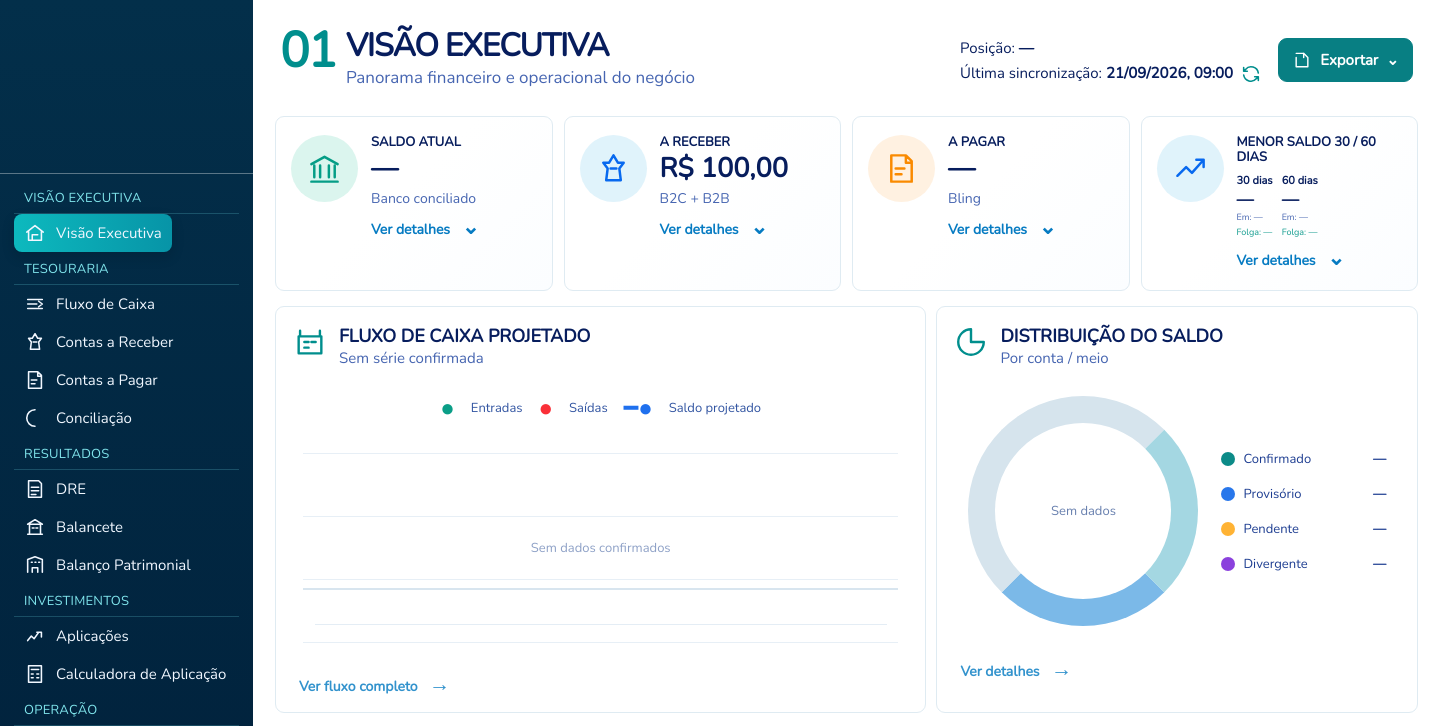
it: shell financeiro › renderiza linhas normalizadas nas tabelas de recebíveis do mockup
Expected: the heading "VISÃO EXECUTIVA" is shown, [346, 24, 608, 67]
Click the button "Contas a Receber" at [99, 342], box [14, 323, 183, 361]
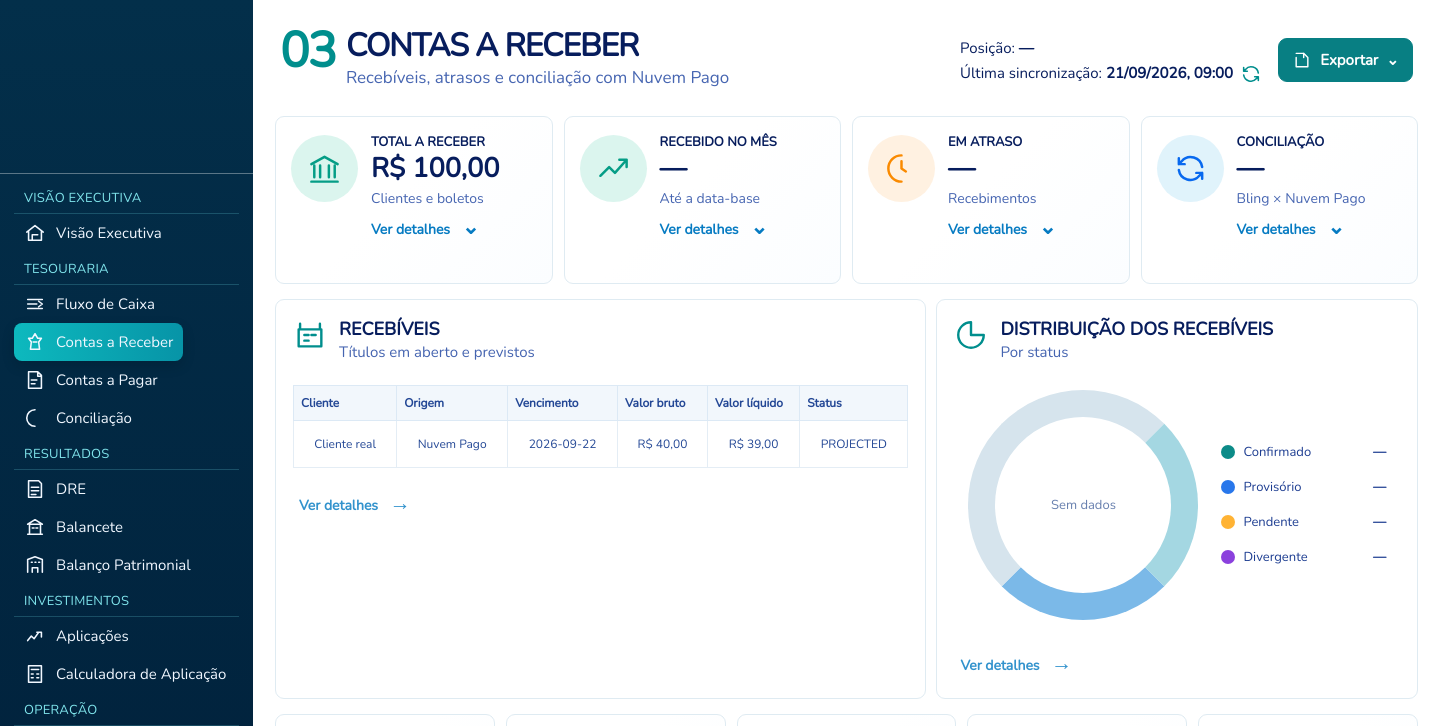
Now the heading "CONTAS A RECEBER" is shown, box [346, 24, 638, 67]
Now the text "Cliente real" is shown, box [294, 420, 397, 467]
Now the text "R$ 40,00" is shown, box [618, 420, 707, 467]
